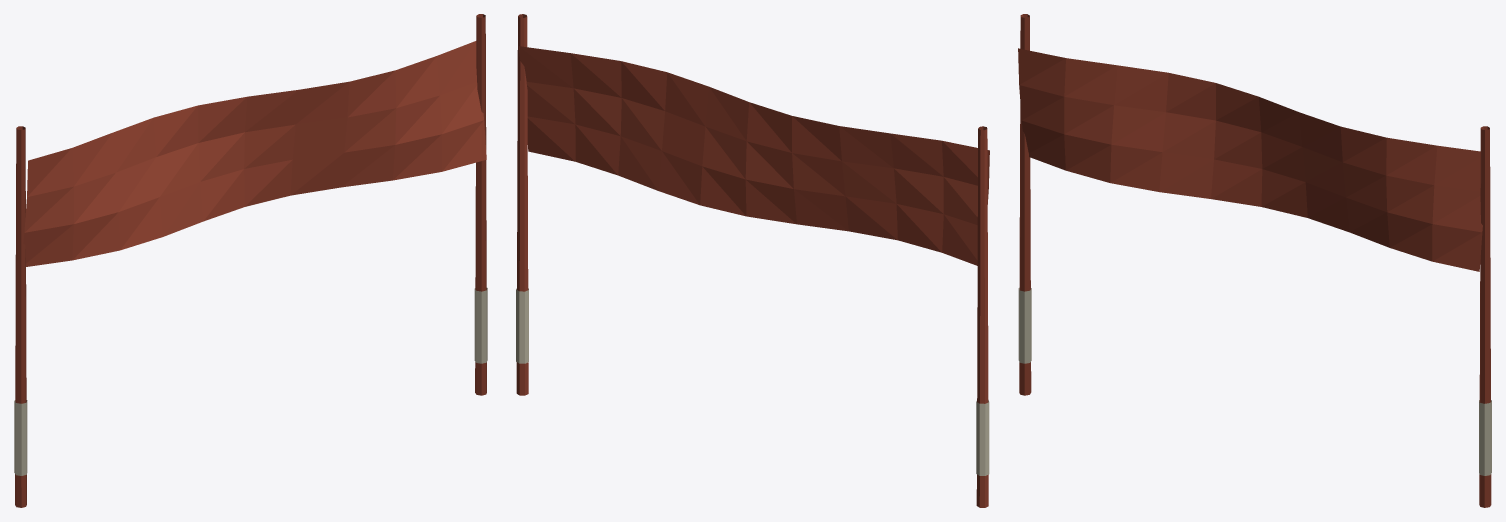
File: slalom-gate.glb
3 renders of one model, left to right at view 1: azimuth 30°, elevation 25°; view 2: azimuth 150°, elevation 25°; view 3: azimuth 330°, elevation 25°, orthographic.
Parts seen in each view (by area): view 1: slalom-gate; view 2: slalom-gate; view 3: slalom-gate.
Boxes of the visible parts, x1,y1,x2,y2 form: slalom-gate: (14,14,487,507); slalom-gate: (516,14,989,507); slalom-gate: (1018,14,1491,507).
Bounding box in the file's own units: 3.07 × 2.35 × 0.1599.
